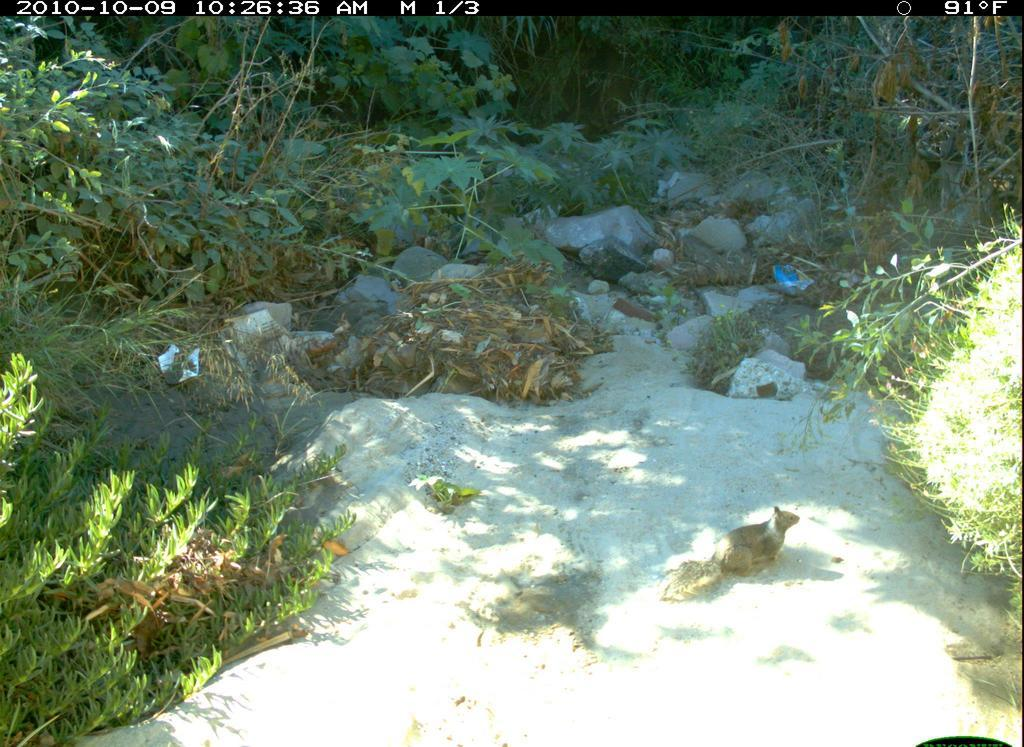squirrel: (662, 498, 815, 610)
